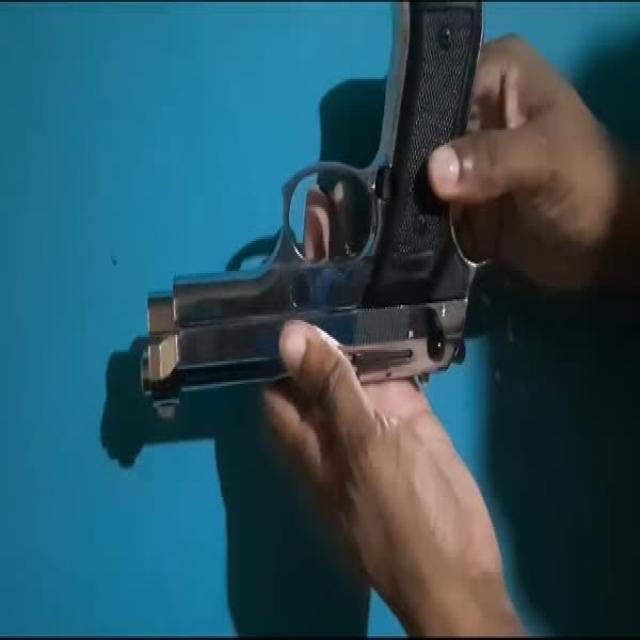weapon: (140, 1, 494, 412)
